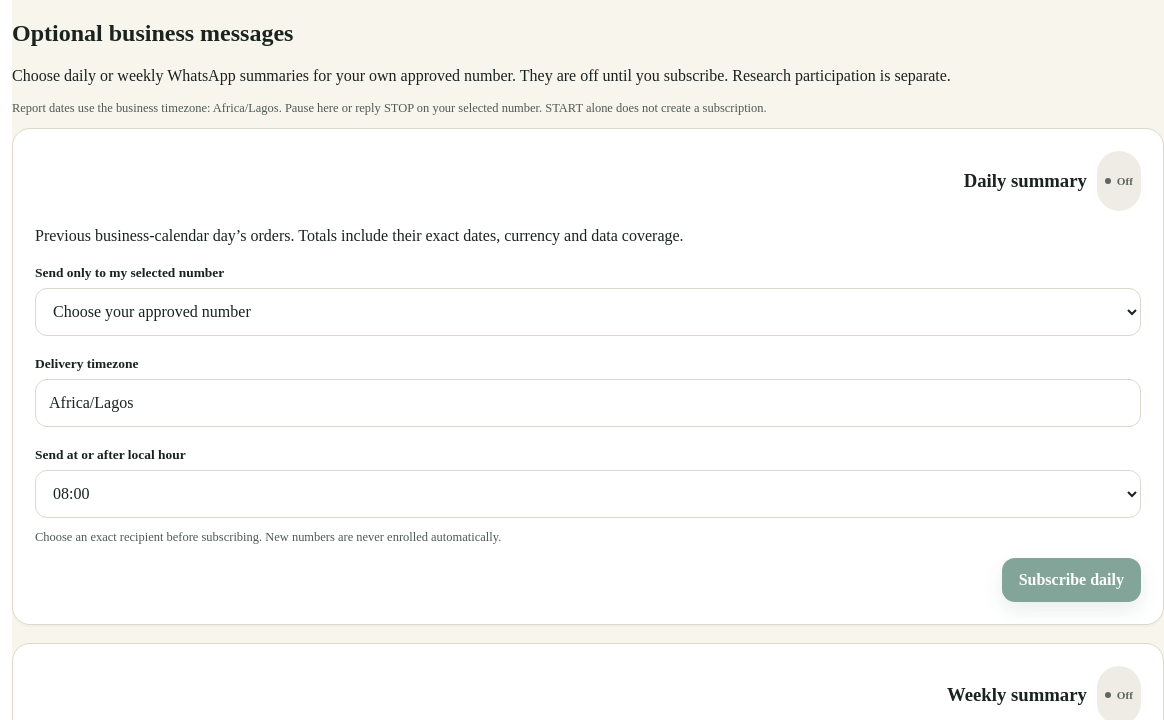
Test: optional business summary settings › surfaces HTTP 409 without enrolling, retrying or discarding the user's selection
Step 1. Select "My backup · +15550102011" in the dropdown labelled "Send only to my selected number" → {"x": 588, "y": 312}, box [35,288,1141,336]
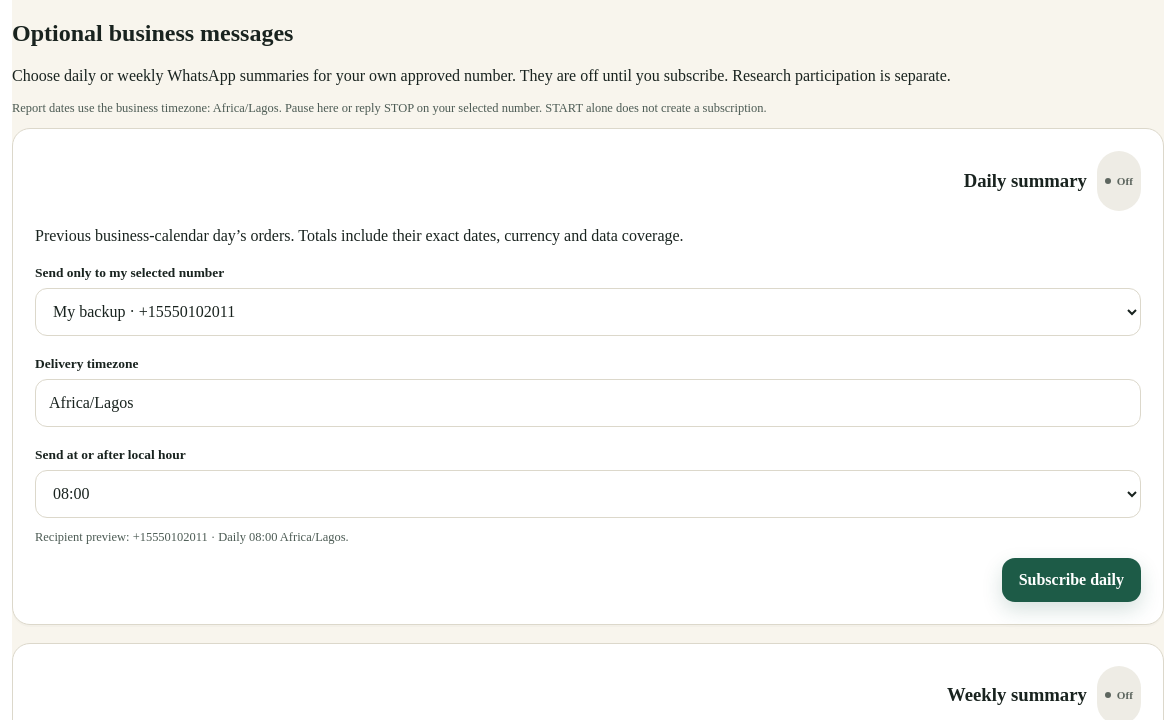
Step 2. Type "Europe/London" into the field labelled "Delivery timezone" → {"x": 588, "y": 403}, box [35,379,1141,427]
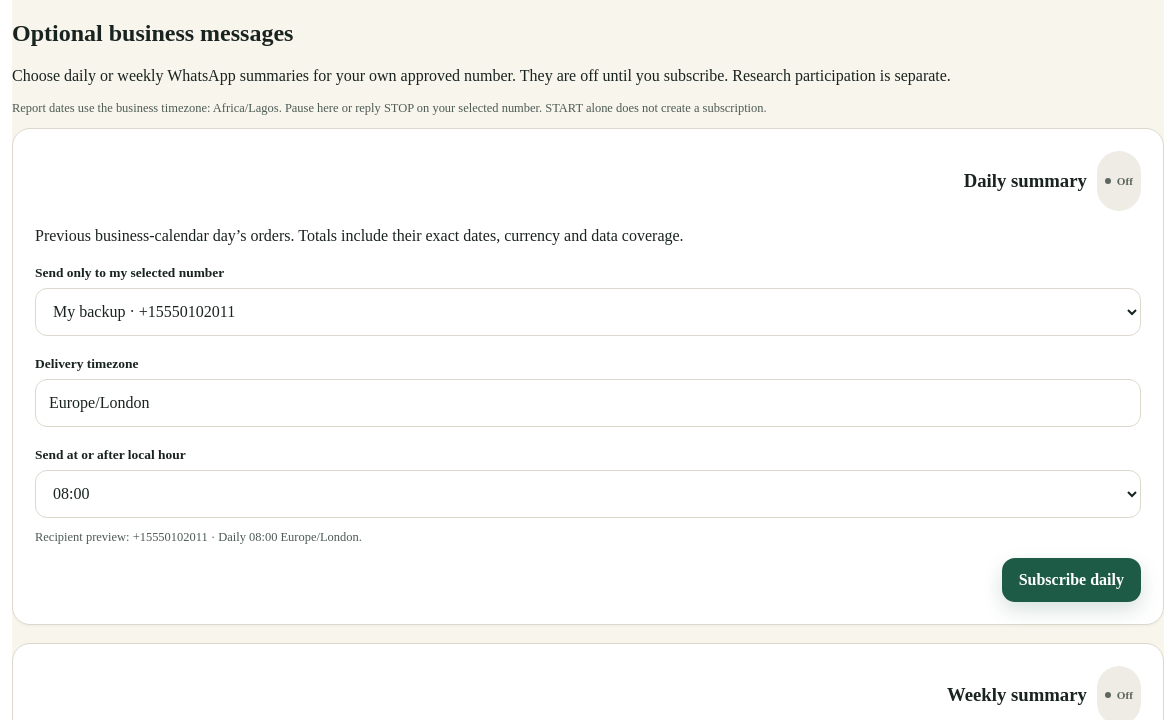
Step 3. Click the button "Subscribe daily" → {"x": 1071, "y": 580}, box [1002,558,1141,602]
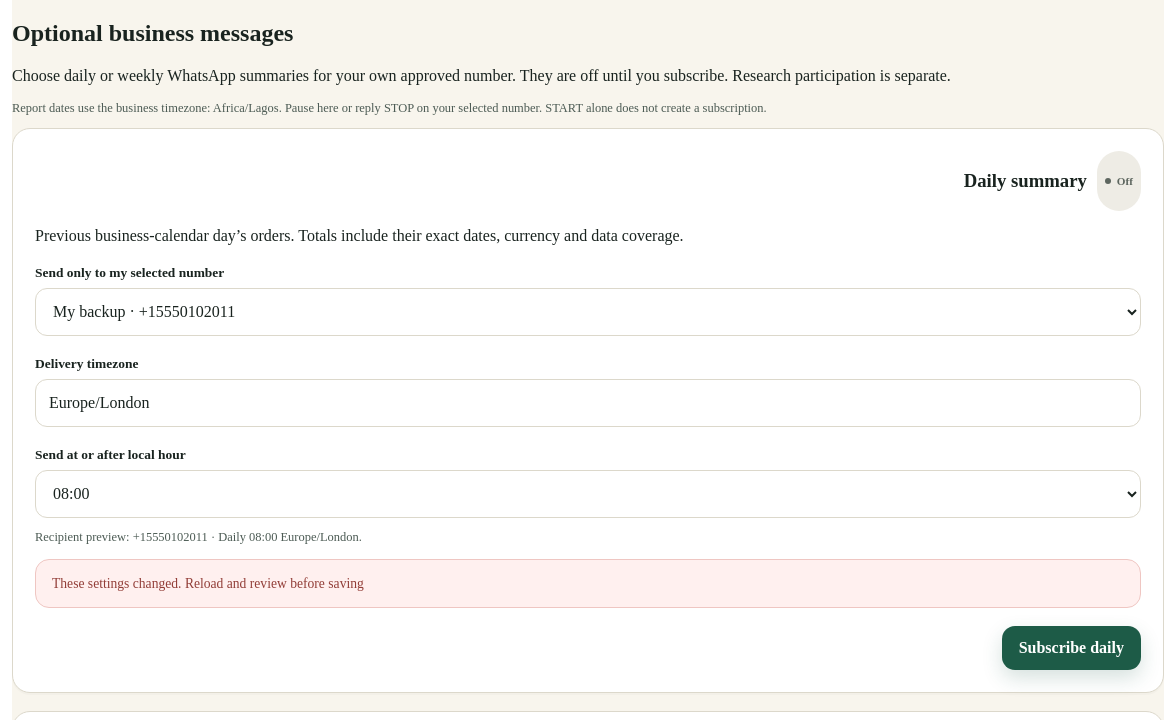
Now the message reads "These settings changed. Reload and review before saving", box [52,576,364,591]
